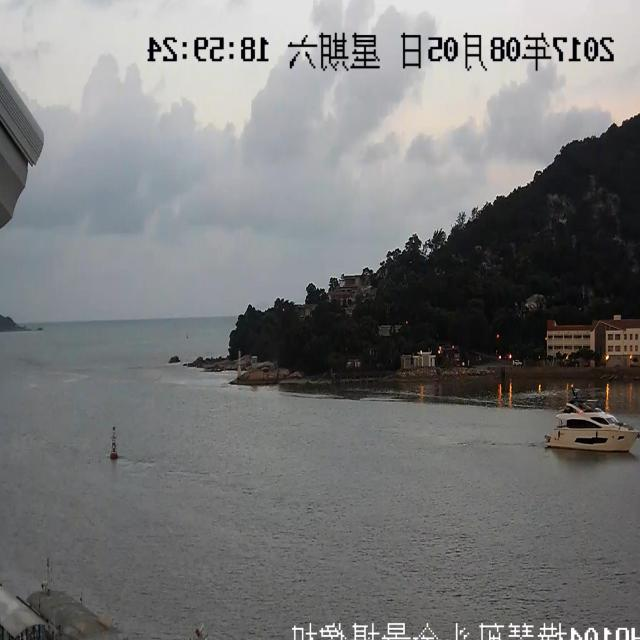buoy: (106, 425, 126, 462)
passenger ship: (540, 385, 639, 457)
reef: (0, 296, 37, 336)
